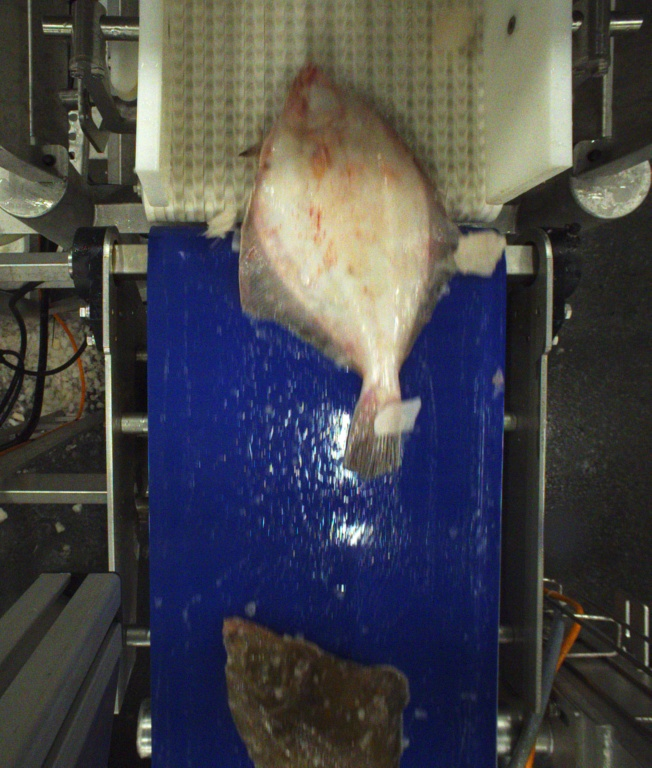PLE: (235, 62, 462, 478)
